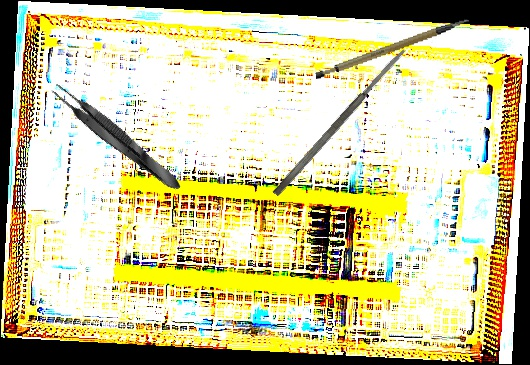Scalpel Handle: (310, 17, 475, 82)
Spatula Surgical: (271, 46, 409, 198)
Tissue Forceps: (47, 78, 186, 198)
